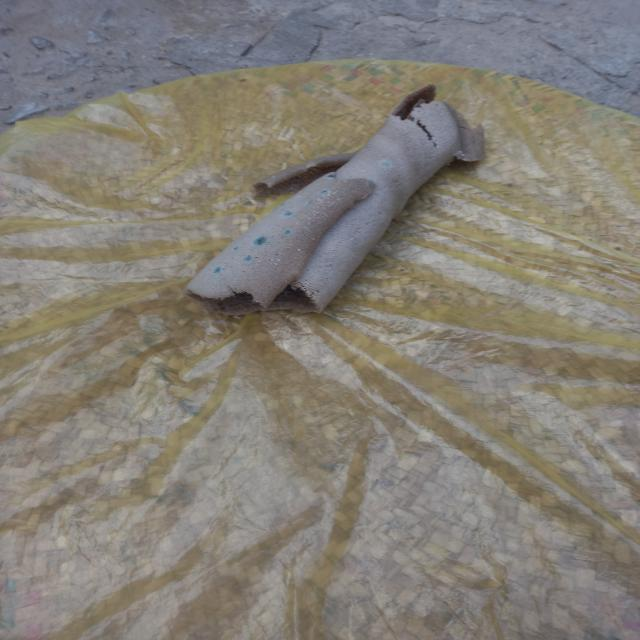injera_mold: (251, 235, 270, 247), (242, 254, 256, 263), (210, 266, 224, 274), (283, 228, 292, 237), (380, 161, 390, 169), (364, 179, 373, 187), (320, 188, 329, 195), (284, 211, 294, 217), (326, 174, 336, 180), (232, 246, 240, 252), (306, 200, 313, 206), (304, 226, 312, 231), (279, 202, 288, 206), (322, 213, 328, 217), (307, 165, 313, 168), (458, 150, 462, 154), (461, 153, 464, 158), (331, 191, 336, 194), (322, 195, 327, 198), (312, 213, 316, 216), (318, 199, 322, 202), (268, 185, 274, 187), (314, 211, 319, 213), (463, 158, 466, 161), (348, 176, 351, 179), (336, 198, 339, 201), (311, 238, 315, 240), (312, 220, 316, 222), (274, 263, 278, 265), (300, 234, 303, 236), (316, 217, 322, 218), (277, 258, 280, 260), (270, 259, 273, 261), (298, 249, 300, 251), (328, 201, 330, 203), (296, 222, 298, 224), (320, 232, 322, 234), (308, 223, 310, 225), (272, 176, 274, 178), (276, 276, 278, 278)
